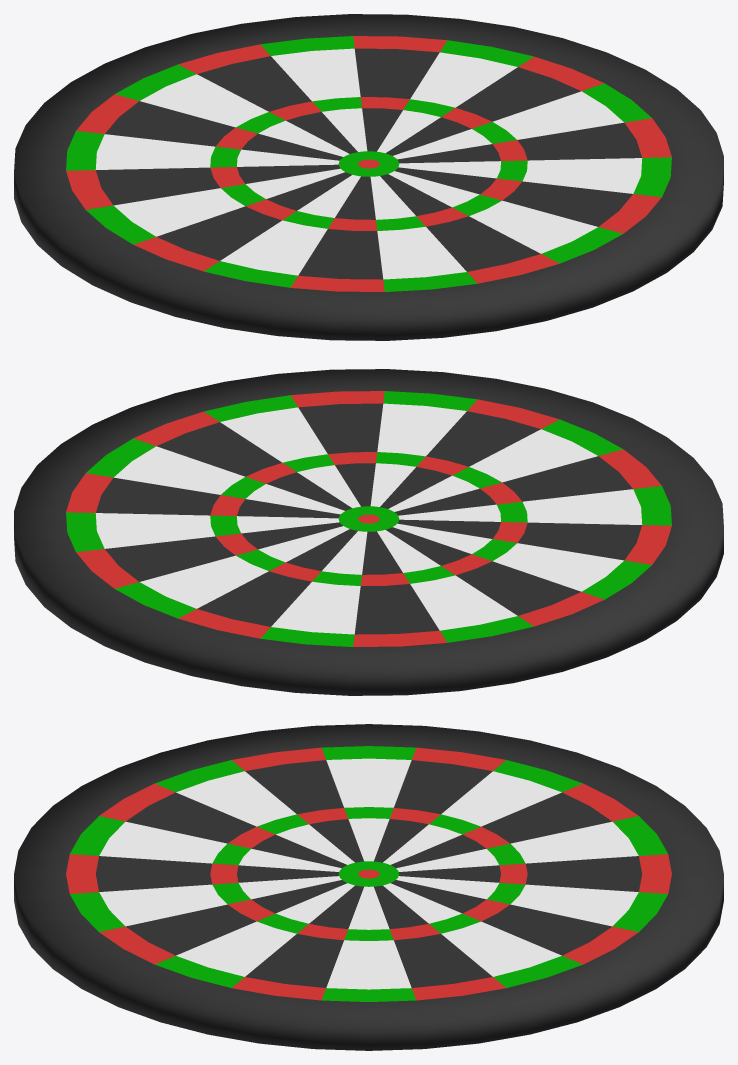
The model's file is DartBoardNormal.fbx.
3 renders of one model, top to bottom at view 1: azimuth 30°, elevation 25°; view 2: azimuth 150°, elevation 25°; view 3: azimuth 270°, elevation 25°, orthographic.
Parts seen in each view (by area): view 1: Circle.002; view 2: Circle.002; view 3: Circle.002.
Part boxes in pixels (box(x1,y1,x2,y2)): Circle.002: box(14, 14, 723, 340); Circle.002: box(14, 369, 723, 695); Circle.002: box(14, 724, 723, 1050).
Bounding box in the file's own units: 417 × 17.4 × 417.
